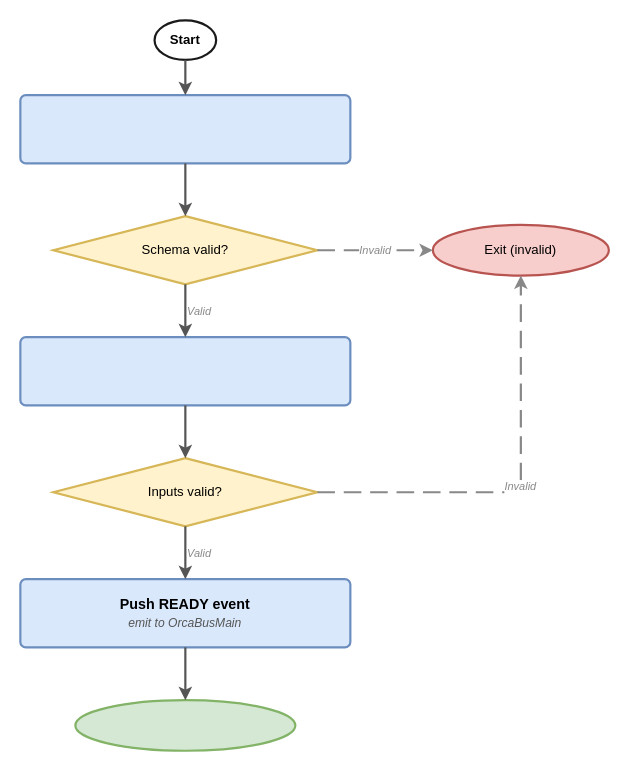
This 628x770 diagram has some shape labels left out. The centre of each missing label's shape, as x and y in pixels:
"Post-schema validation business-rule checks" goes at point (185, 371).
"Success" goes at point (185, 724).
"Validate draft schema against registered JSON schema" goes at point (185, 129).
